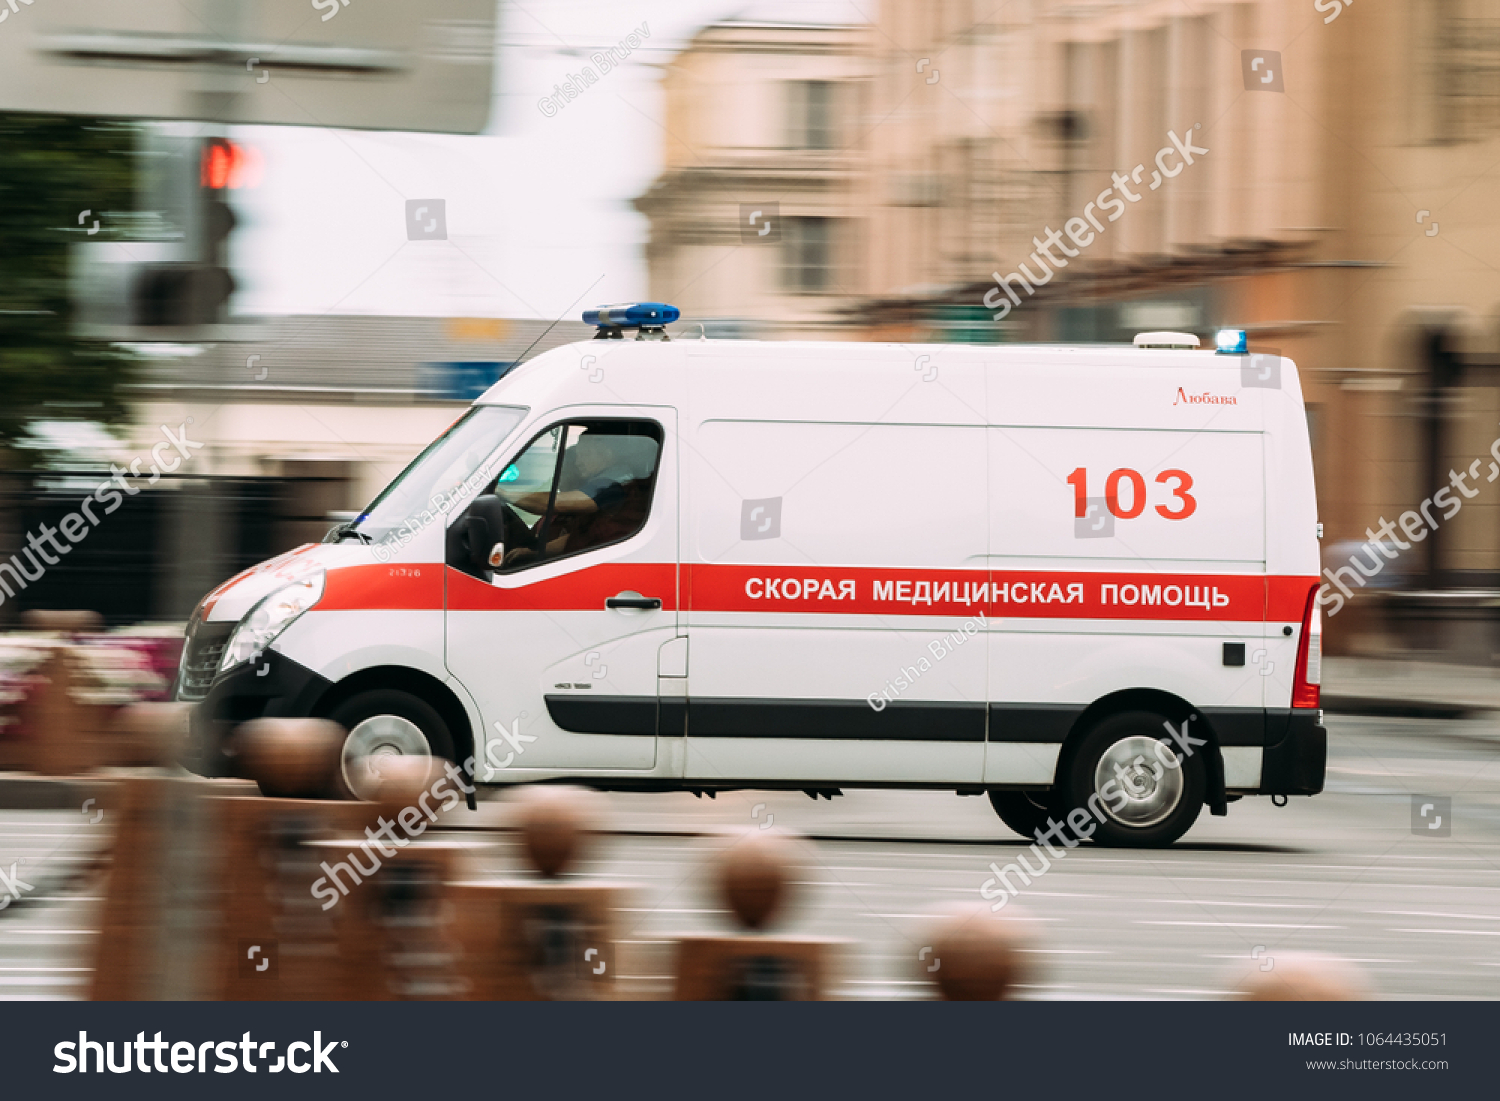special: (181, 302, 1326, 838)
